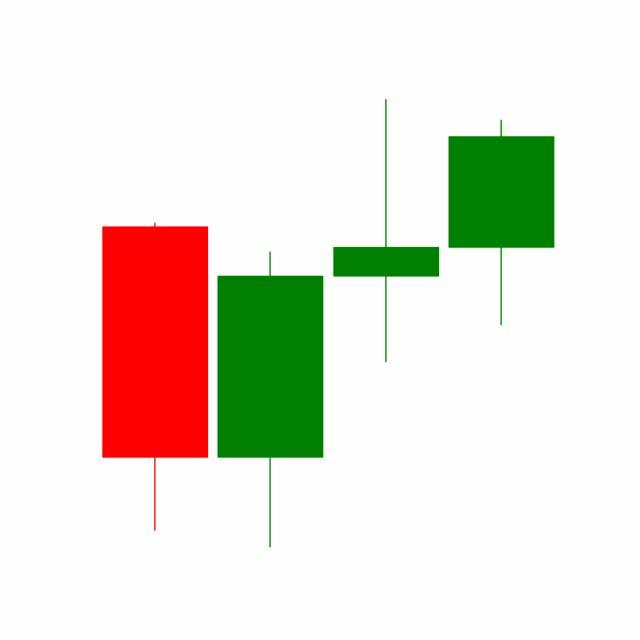Spinning Top: (329, 96, 445, 366)
